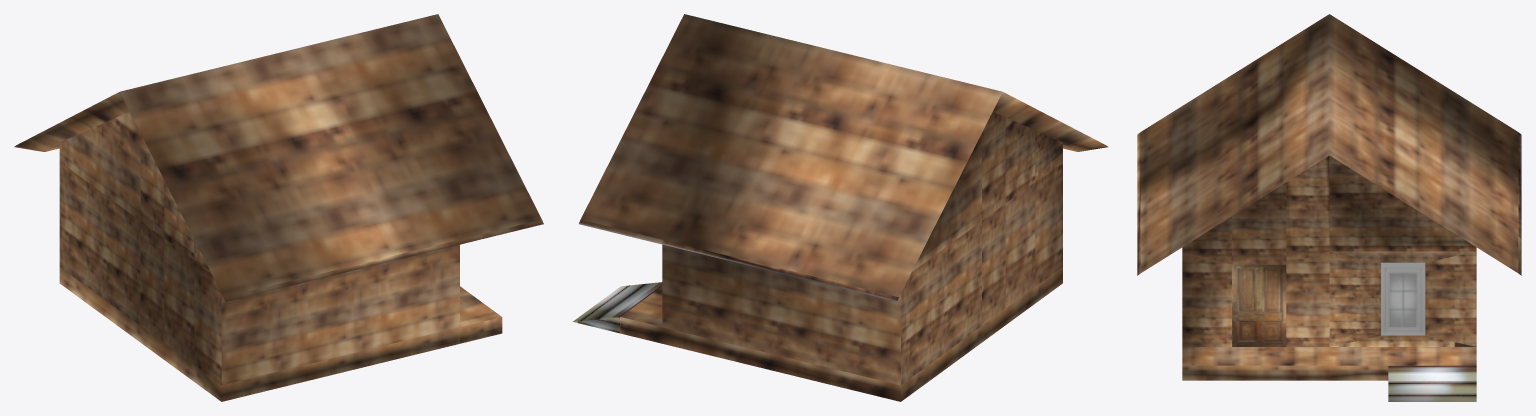
Rendered from House_Type1_1.fbx.
The picture shows the model from 3 angles, left to right: view 1: azimuth 30°, elevation 25°; view 2: azimuth 150°, elevation 25°; view 3: azimuth 270°, elevation 25°; orthographic projection. The views are drawn at different scales.
Visible parts, largest first — view 1: House_Type1_1; view 2: House_Type1_1; view 3: House_Type1_1.
Boxes of the visible parts, bbox=[...] form: House_Type1_1: bbox=[14, 14, 543, 401]; House_Type1_1: bbox=[572, 14, 1107, 401]; House_Type1_1: bbox=[1137, 14, 1521, 401].
Size of the model in its own units: 23.67 by 16.58 by 24.81.
